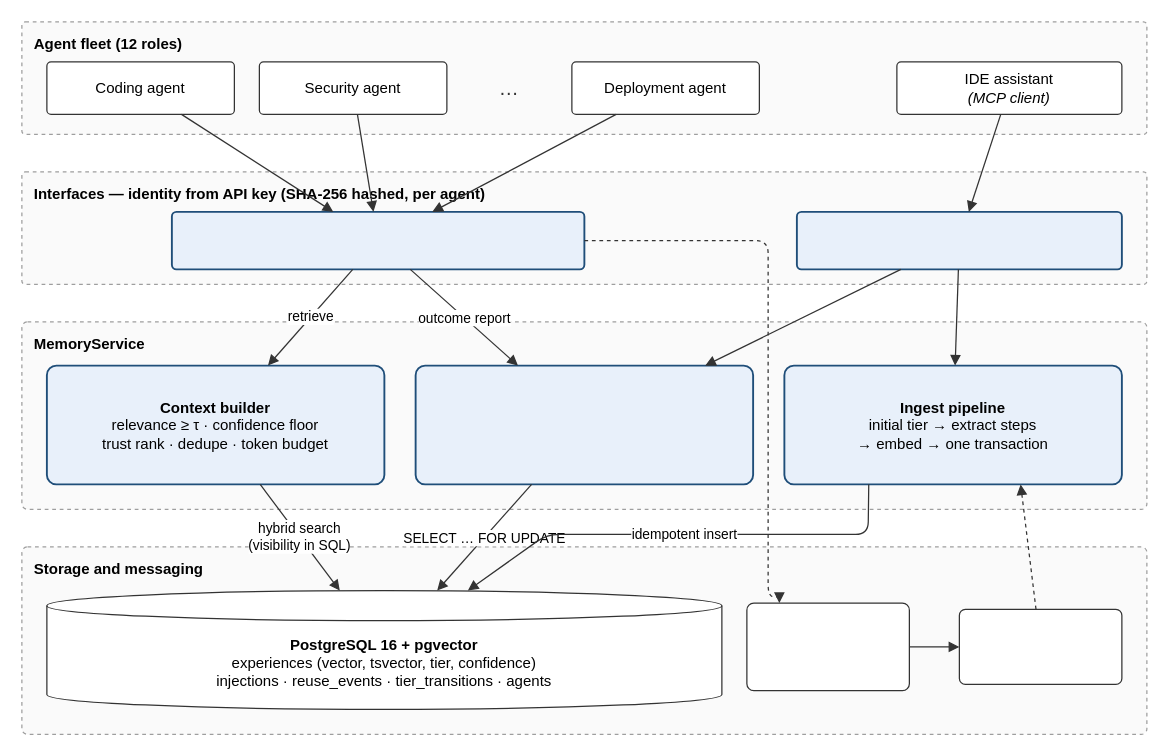
This 1169x756 diagram has some shape labels left out. The shapes that lost their labels are listed below. From the top down, each one's centre as x and y in pixels, then its label:
At pixel 377 240: "REST API (FastAPI) /context · /experiences · /reuse".
At pixel 958 240: "MCP stdio server bound to one agent key".
At pixel 584 424: "Memory Judge five-tier ladder Beta-posterior confidence quarantine".
At pixel 827 646: "Amazon SQS queued writes, at-least-once".
At pixel 1040 646: "Worker poison-message cap".
